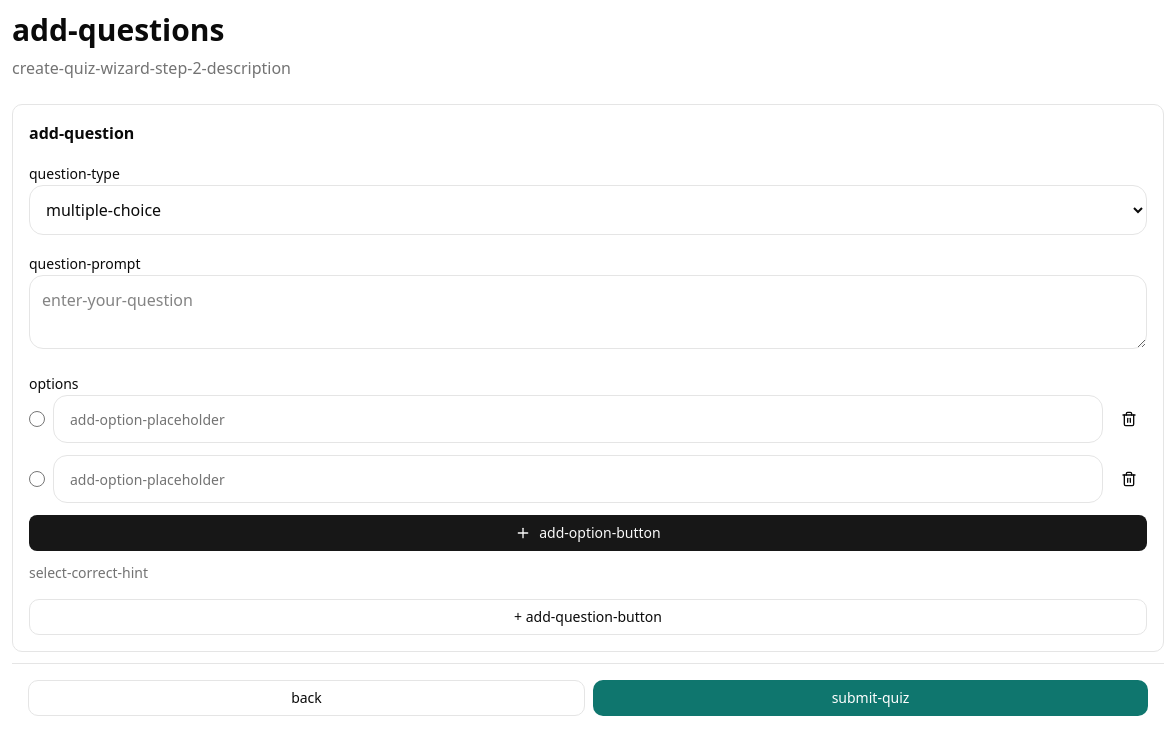
Test: AddQuestions › disables submit button when loading
Click the button "submit-quiz". click: (870, 698)
box: [593,680,1148,716]
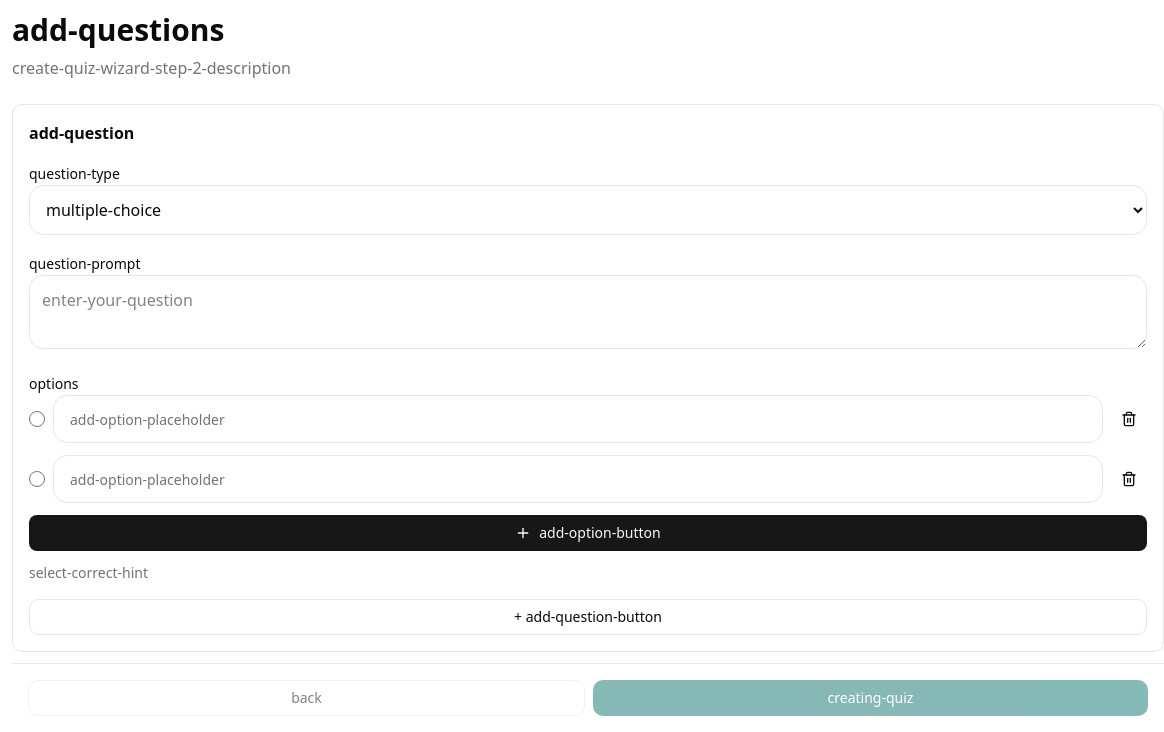
Expected: the button named "submit-quiz" is disabled, [593,680,1148,716]
